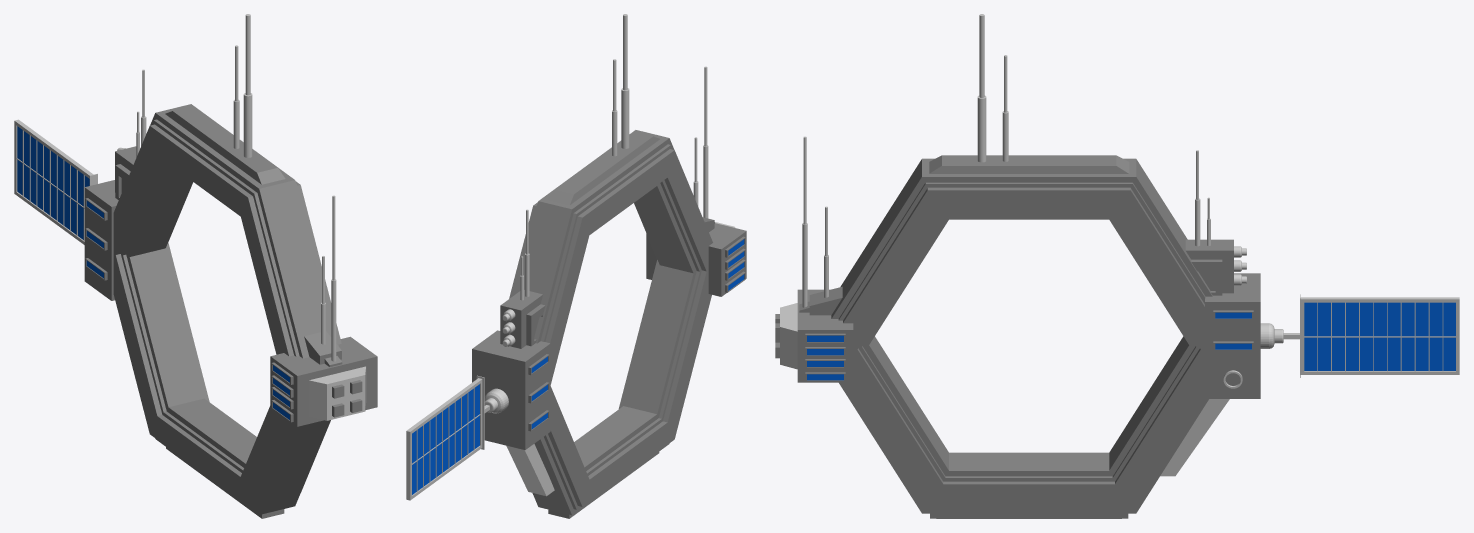
The model's file is HyperLaneFixed.fbx.
The picture shows the model from 3 angles, left to right: view 1: azimuth 30°, elevation 25°; view 2: azimuth 150°, elevation 25°; view 3: azimuth 270°, elevation 25°; orthographic projection. The views are drawn at different scales.
Parts seen in each view (by area): view 1: HyperLane; view 2: HyperLane; view 3: HyperLane.
Boxes of the visible parts, x1,y1,x2,y2 form: HyperLane: (14, 14, 377, 518); HyperLane: (406, 14, 746, 518); HyperLane: (775, 14, 1459, 518).
Size of the model in its own units: 47.56 by 258 by 319.
